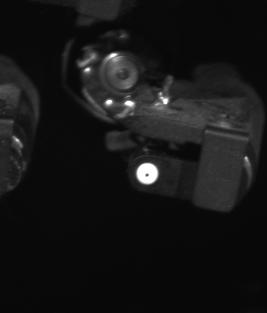fiber: (132, 160, 165, 191)
